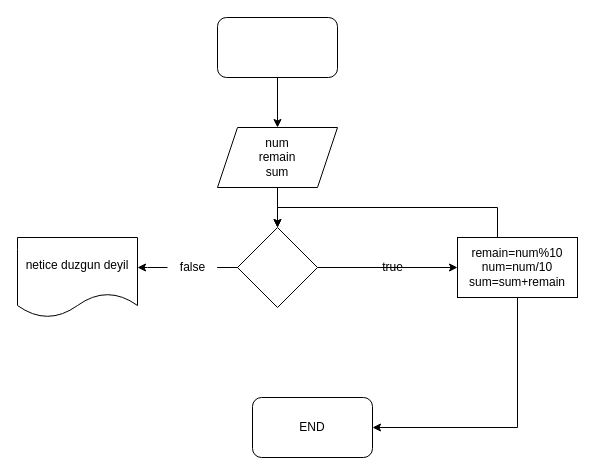
The diagram is 595 pixels wide and 475 high, and some of its shapes have lost their labels. The shapes that lost their labels are listed below. From the top down, each one's centre as x and y in pixels, then its label:
At pixel 277 47: "START".
At pixel 277 267: "num>0".
